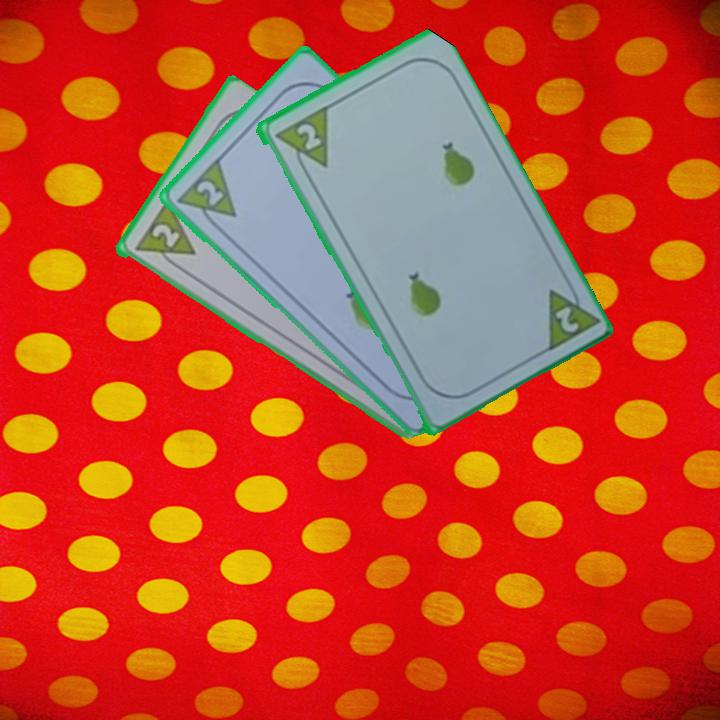2p: (130, 199, 198, 275), (270, 103, 331, 180), (192, 176, 226, 210), (550, 302, 582, 336)
